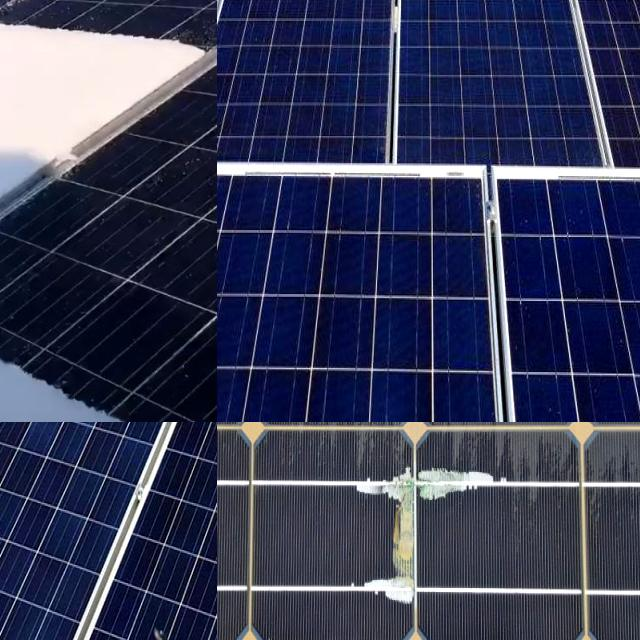crack: (217, 162, 526, 422), (0, 422, 217, 640), (390, 0, 608, 192), (0, 422, 186, 640), (487, 166, 640, 422), (217, 0, 402, 191), (60, 422, 217, 640), (549, 0, 640, 216), (86, 422, 217, 559), (66, 422, 217, 533), (342, 0, 489, 55), (454, 0, 597, 56), (233, 0, 369, 57), (555, 0, 640, 54), (217, 0, 297, 57)
panel: (0, 69, 160, 271), (0, 283, 217, 422), (0, 0, 205, 77), (75, 0, 217, 34), (0, 0, 60, 21)
shadow: (326, 450, 516, 632)
